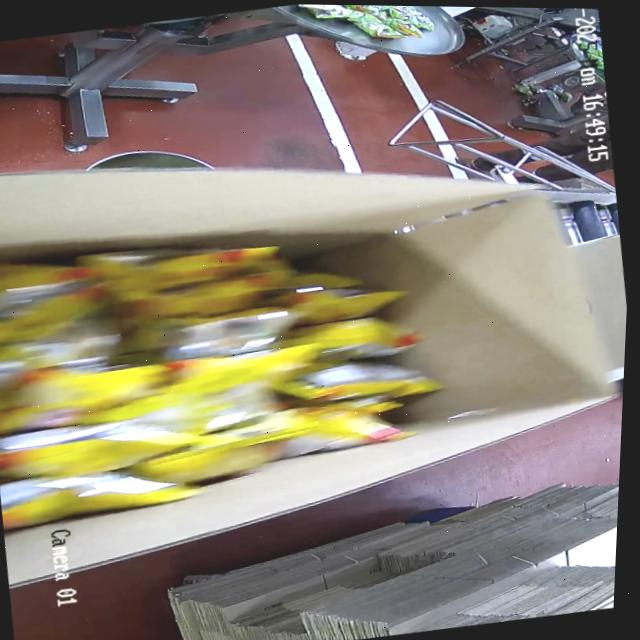SALTED: (0, 199, 444, 537)
